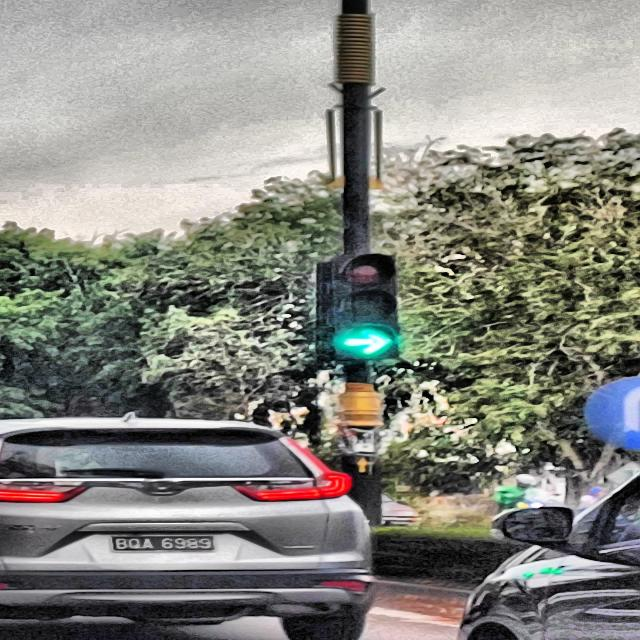green: (335, 255, 400, 357)
